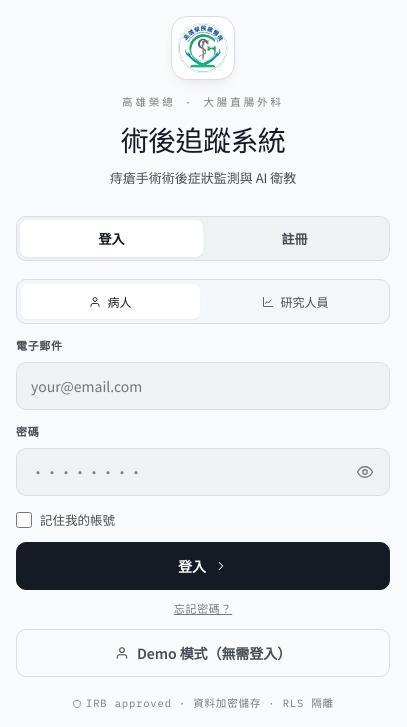
Login Page › sends reset password email
The image size is (407, 727).
Click the button "忘記密碼？".
click(203, 608)  # box [16,600,390,616]
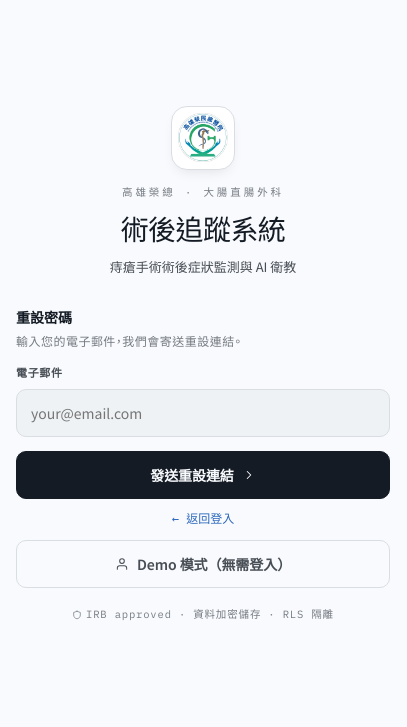
Type "forgot@test.com" into the field with placeholder "your@email.com".
click(203, 413); type("forgot@test.com")  # box [16,389,390,437]
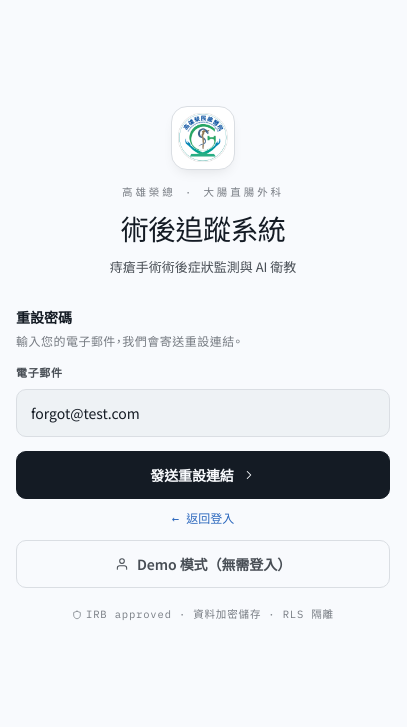
Submit the form from the submit button, box [16,451,390,499]
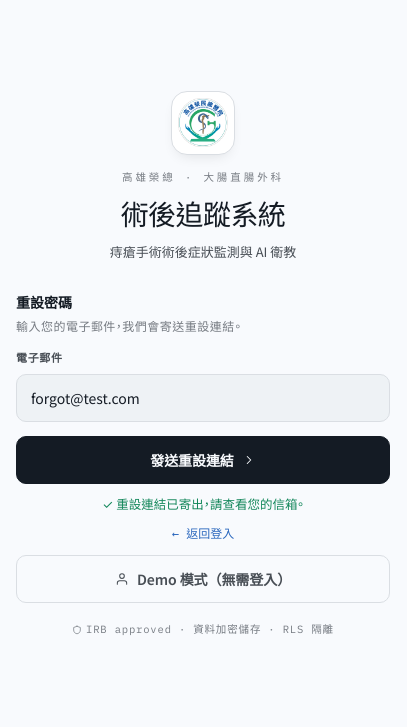
Now the text "✓ 重設連結已寄出，請查看您的信箱。" is shown, box [102,494,304,513]
